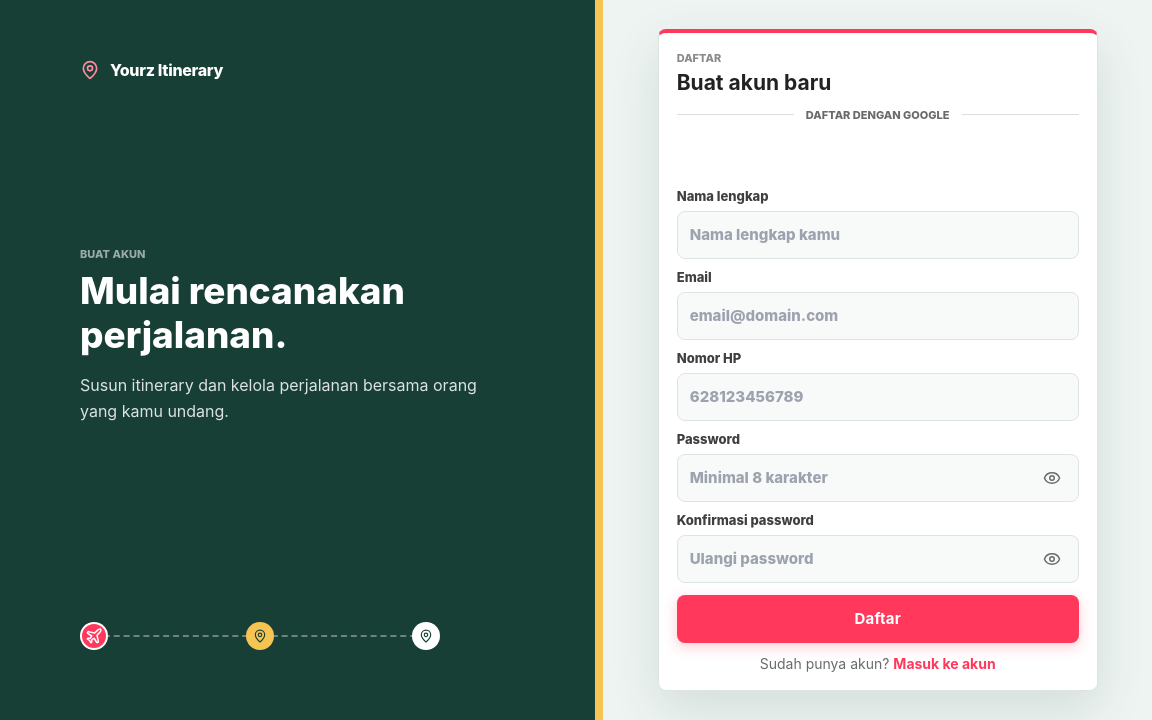
Scenario: Register › normalizes whitespace in registration fields
Step 1. Type "  Zaqi   Akhana  " into the field labelled "Nama lengkap" → coordinates (878, 235), box [677,211,1079,259]
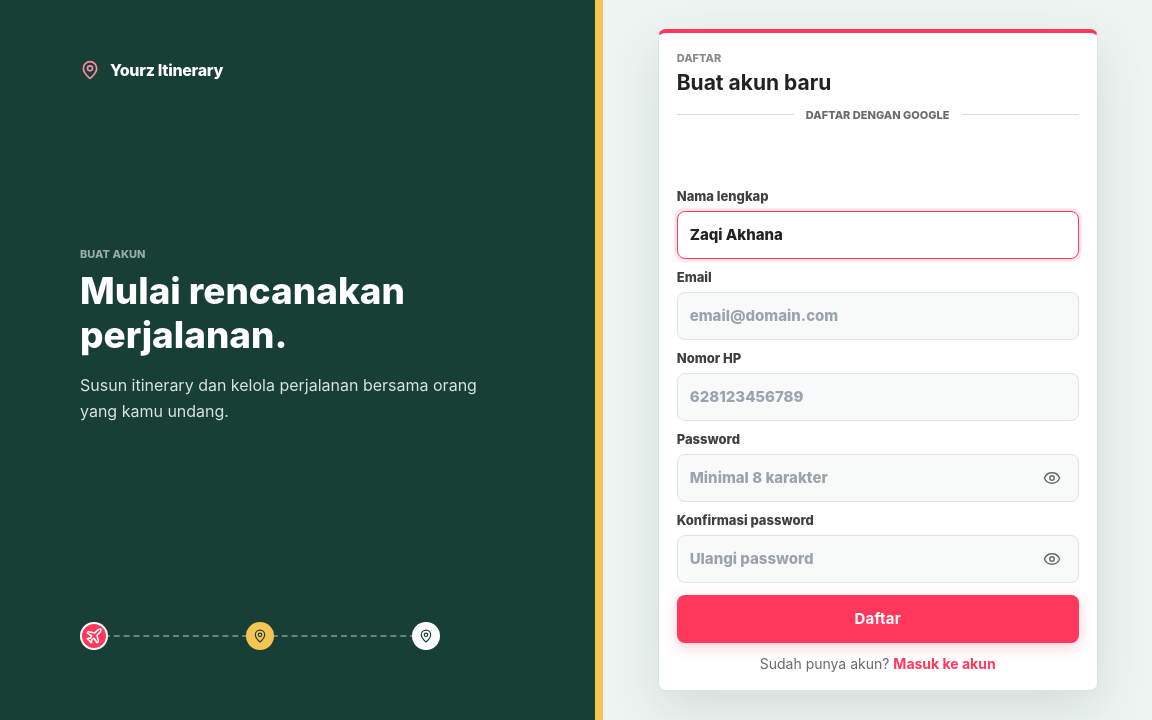
Step 2. Type " zaqi @example.com " into the field labelled "Email" → coordinates (878, 316), box [677,292,1079,340]
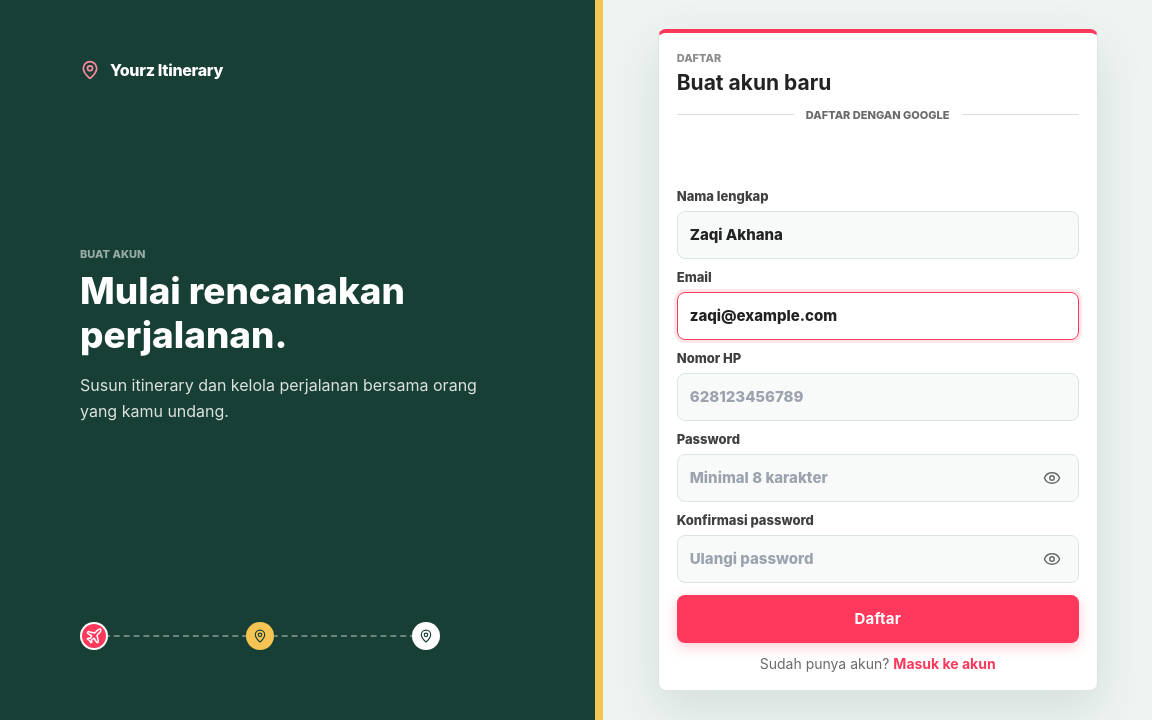
Step 3. Type " 628 123 456 " into the field labelled "Nomor HP" → coordinates (878, 397), box [677,373,1079,421]
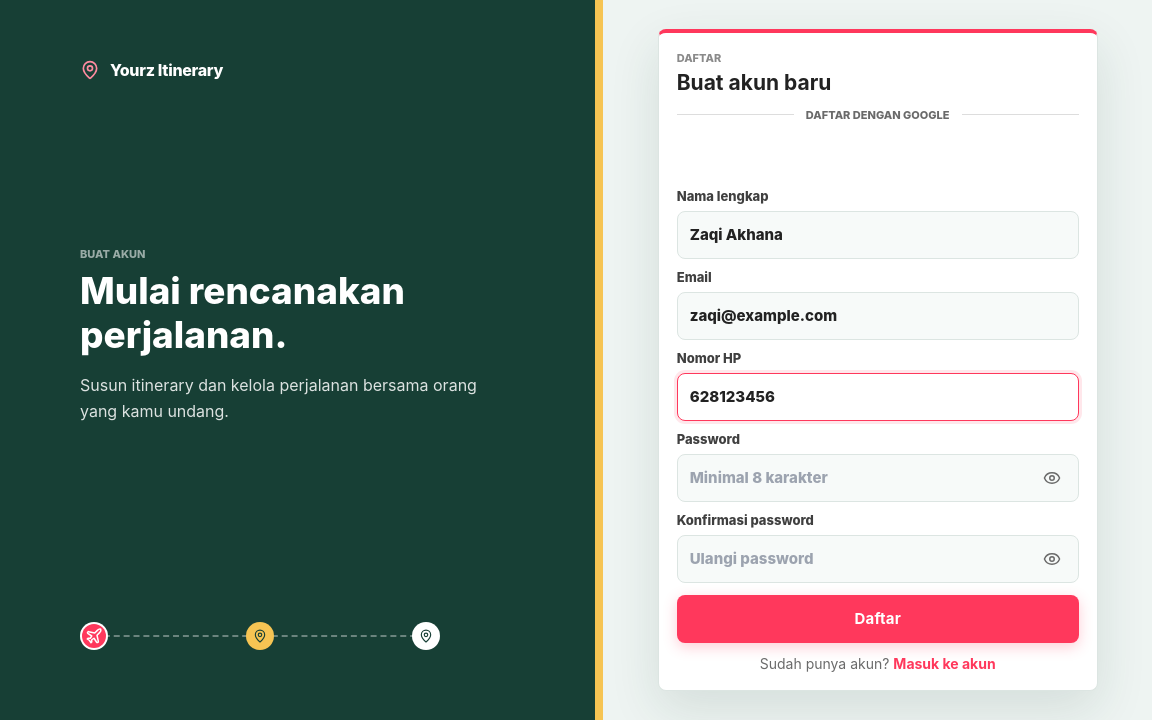
Expected: the field labelled "Email" holds "zaqi@example.com", [677,292,1079,340]
Expected: the field labelled "Nomor HP" holds "628123456", [677,373,1079,421]
